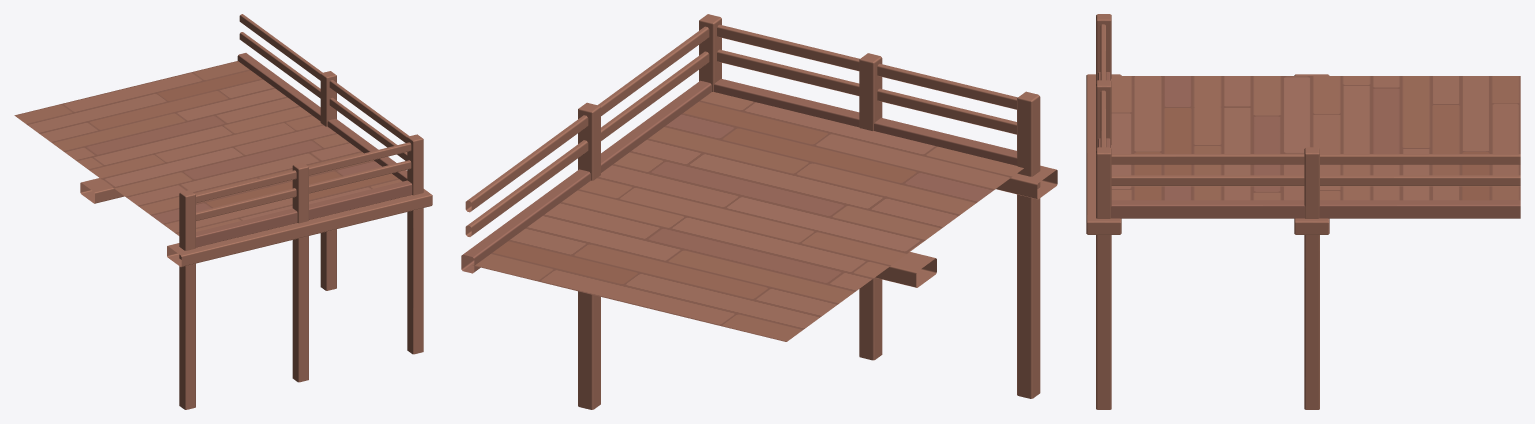
Rendered from BoardWalkCornerLeft.fbx.
3 views of the same model, side by side, from view 1: azimuth 30°, elevation 25°; view 2: azimuth 150°, elevation 25°; view 3: azimuth 270°, elevation 25° (orthographic). The views are drawn at different scales.
Parts seen in each view (by area): view 1: BoardWalkCornerLeft; view 2: BoardWalkCornerLeft; view 3: BoardWalkCornerLeft.
Boxes of the visible parts, x1,y1,x2,y2 form: BoardWalkCornerLeft: [14, 14, 432, 409]; BoardWalkCornerLeft: [461, 14, 1057, 409]; BoardWalkCornerLeft: [1086, 14, 1520, 409].
Size of the model in its own units: 669 by 542 by 832.
